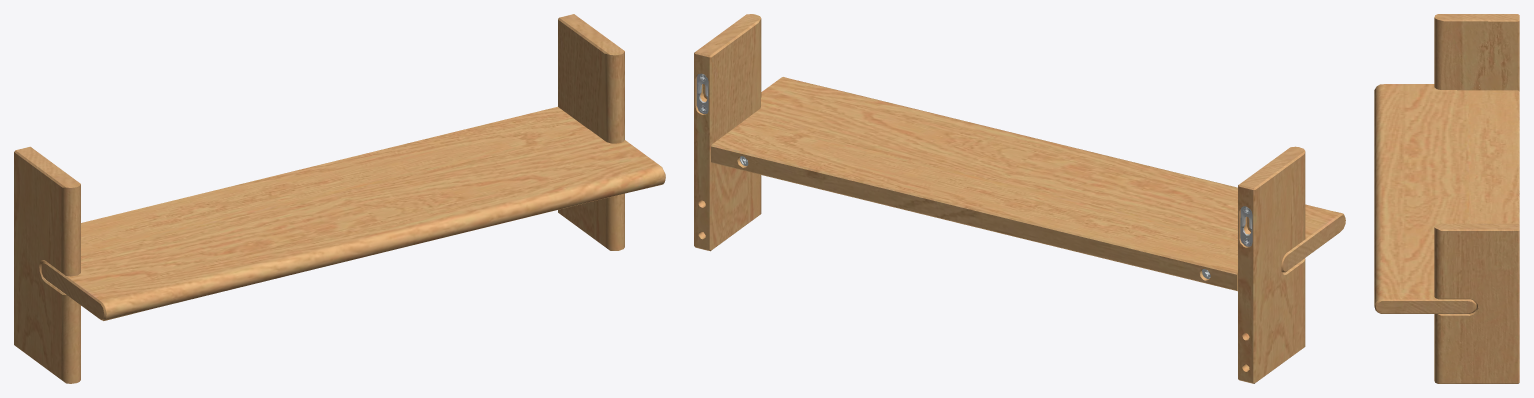
3 renders of one model, left to right at view 1: azimuth 30°, elevation 25°; view 2: azimuth 150°, elevation 25°; view 3: azimuth 270°, elevation 25°, orthographic. The views are drawn at different scales.
Parts seen in each view (by area): view 1: ASY_ART_30601689_S01_NV01; view 2: ASY_ART_30601689_S01_NV01; view 3: ASY_ART_30601689_S01_NV01.
Part boxes in pixels (x1=…): ASY_ART_30601689_S01_NV01: x1=14, y1=14, x2=665, y2=383; ASY_ART_30601689_S01_NV01: x1=694, y1=14, x2=1345, y2=383; ASY_ART_30601689_S01_NV01: x1=1374, y1=14, x2=1519, y2=383.
Bounding box in the file's own units: 0.6003 × 0.2 × 0.1702.
1 material, 1 textured.
